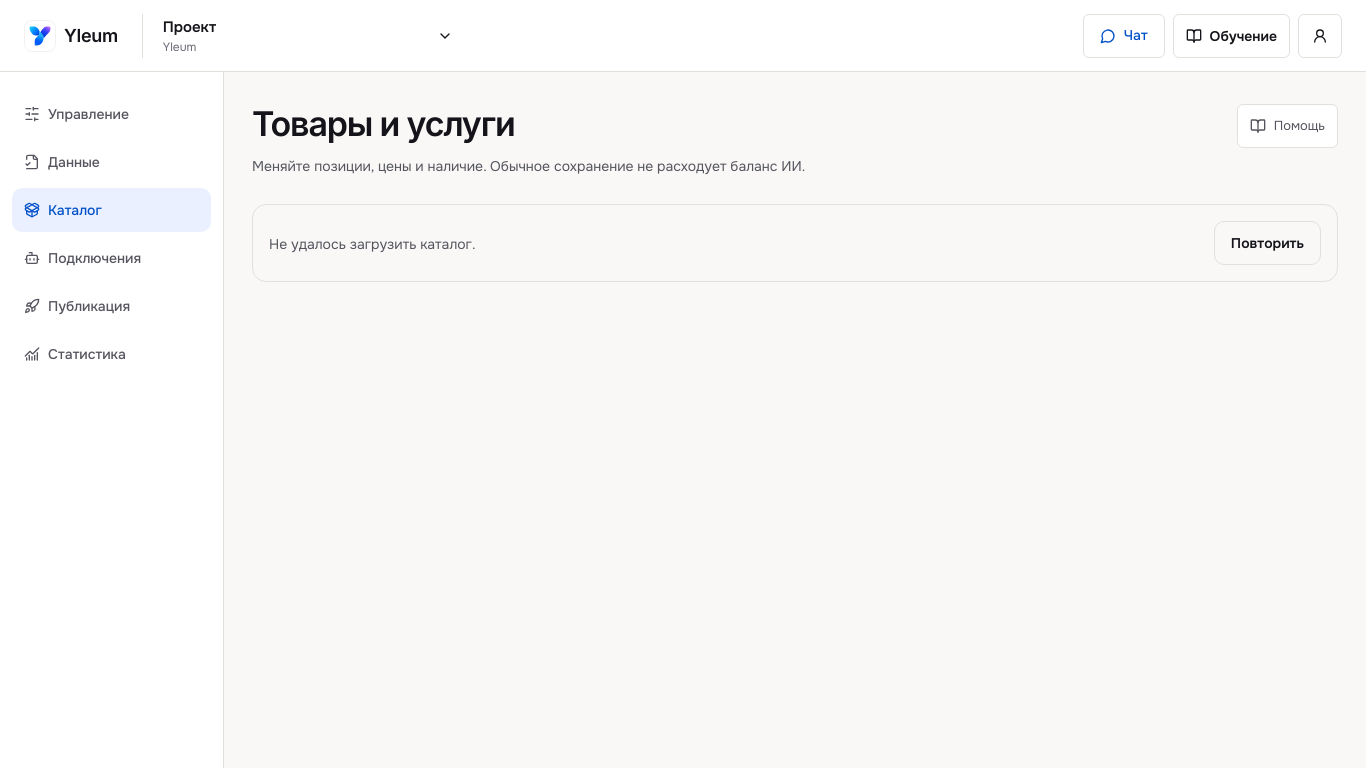
Test: allows the owner to retry when a successful response omits the catalog
The width and height of the screenshot is (1366, 768).
Check: the message "Не удалось загрузить каталог. Повторить" is shown, box x1=252 y1=204 x2=1338 y2=282
Click the button "Повторить": (1267, 243) x1=1214 y1=221 x2=1321 y2=265
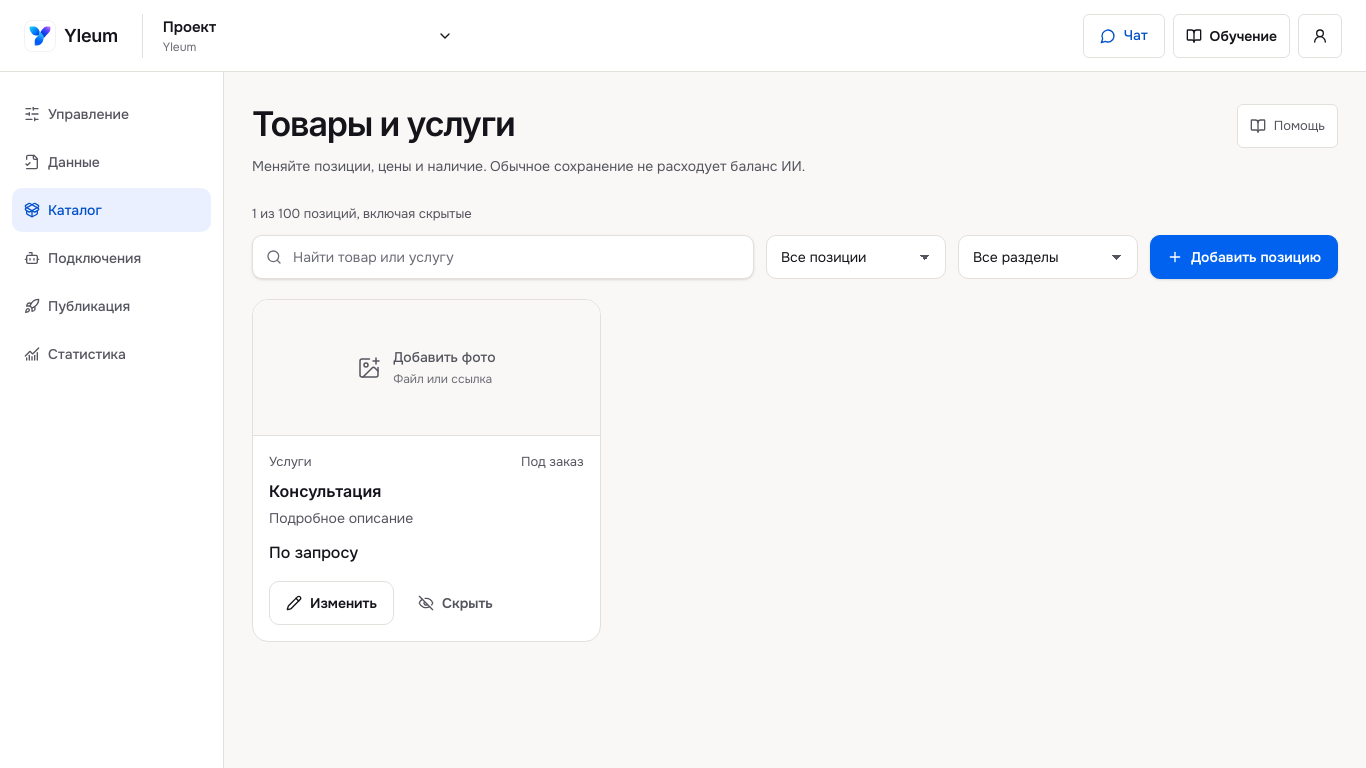
Check: the heading "Консультация" is shown, box x1=269 y1=481 x2=381 y2=501
